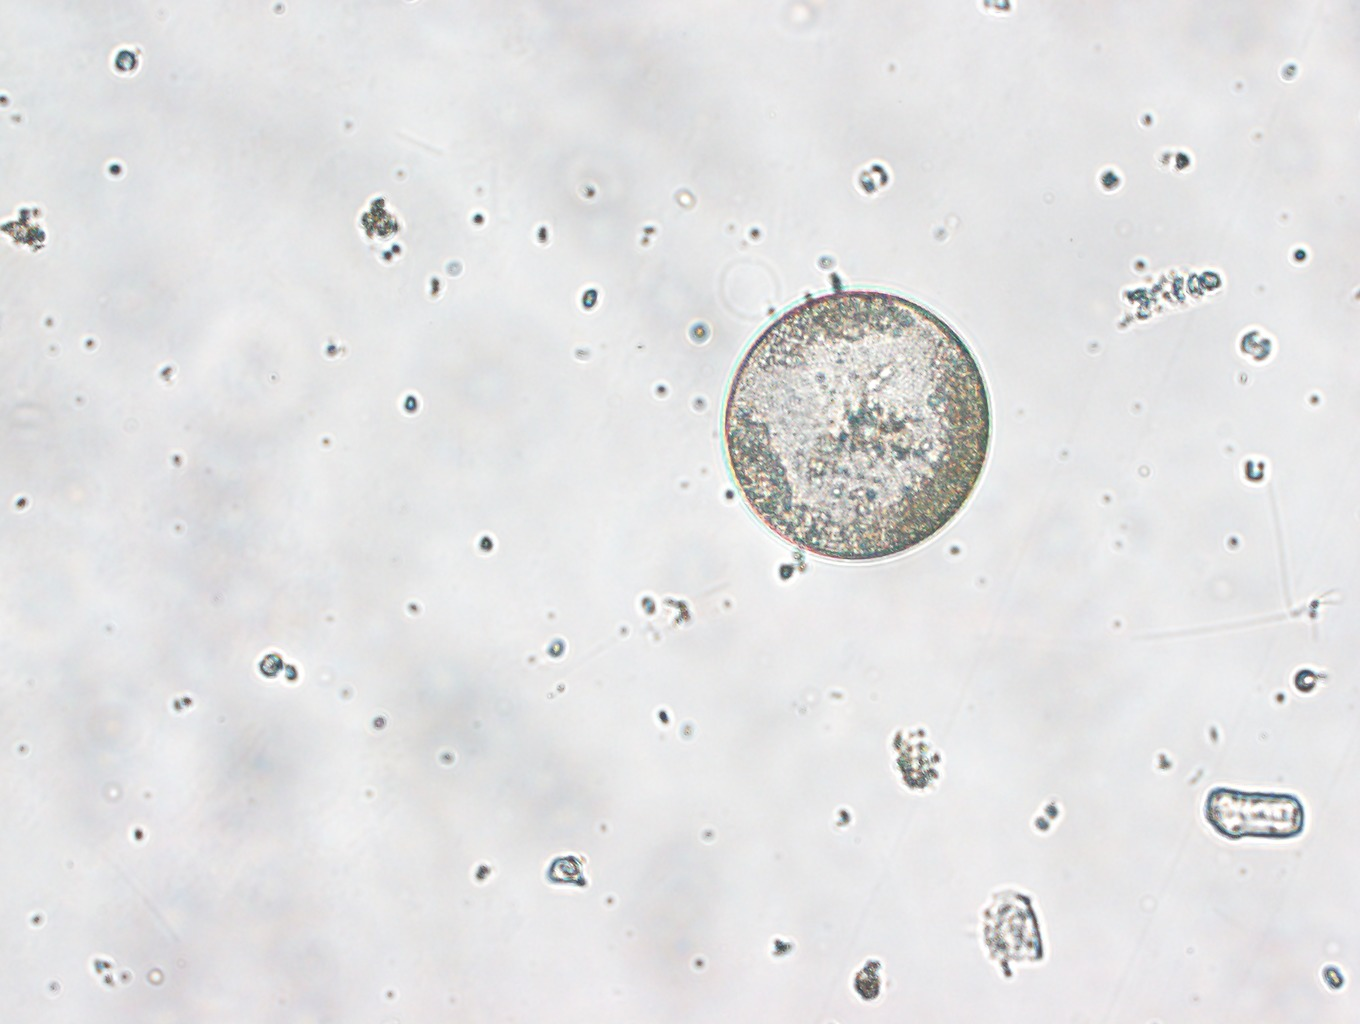coscinodiscus: (719, 289, 1000, 565)
